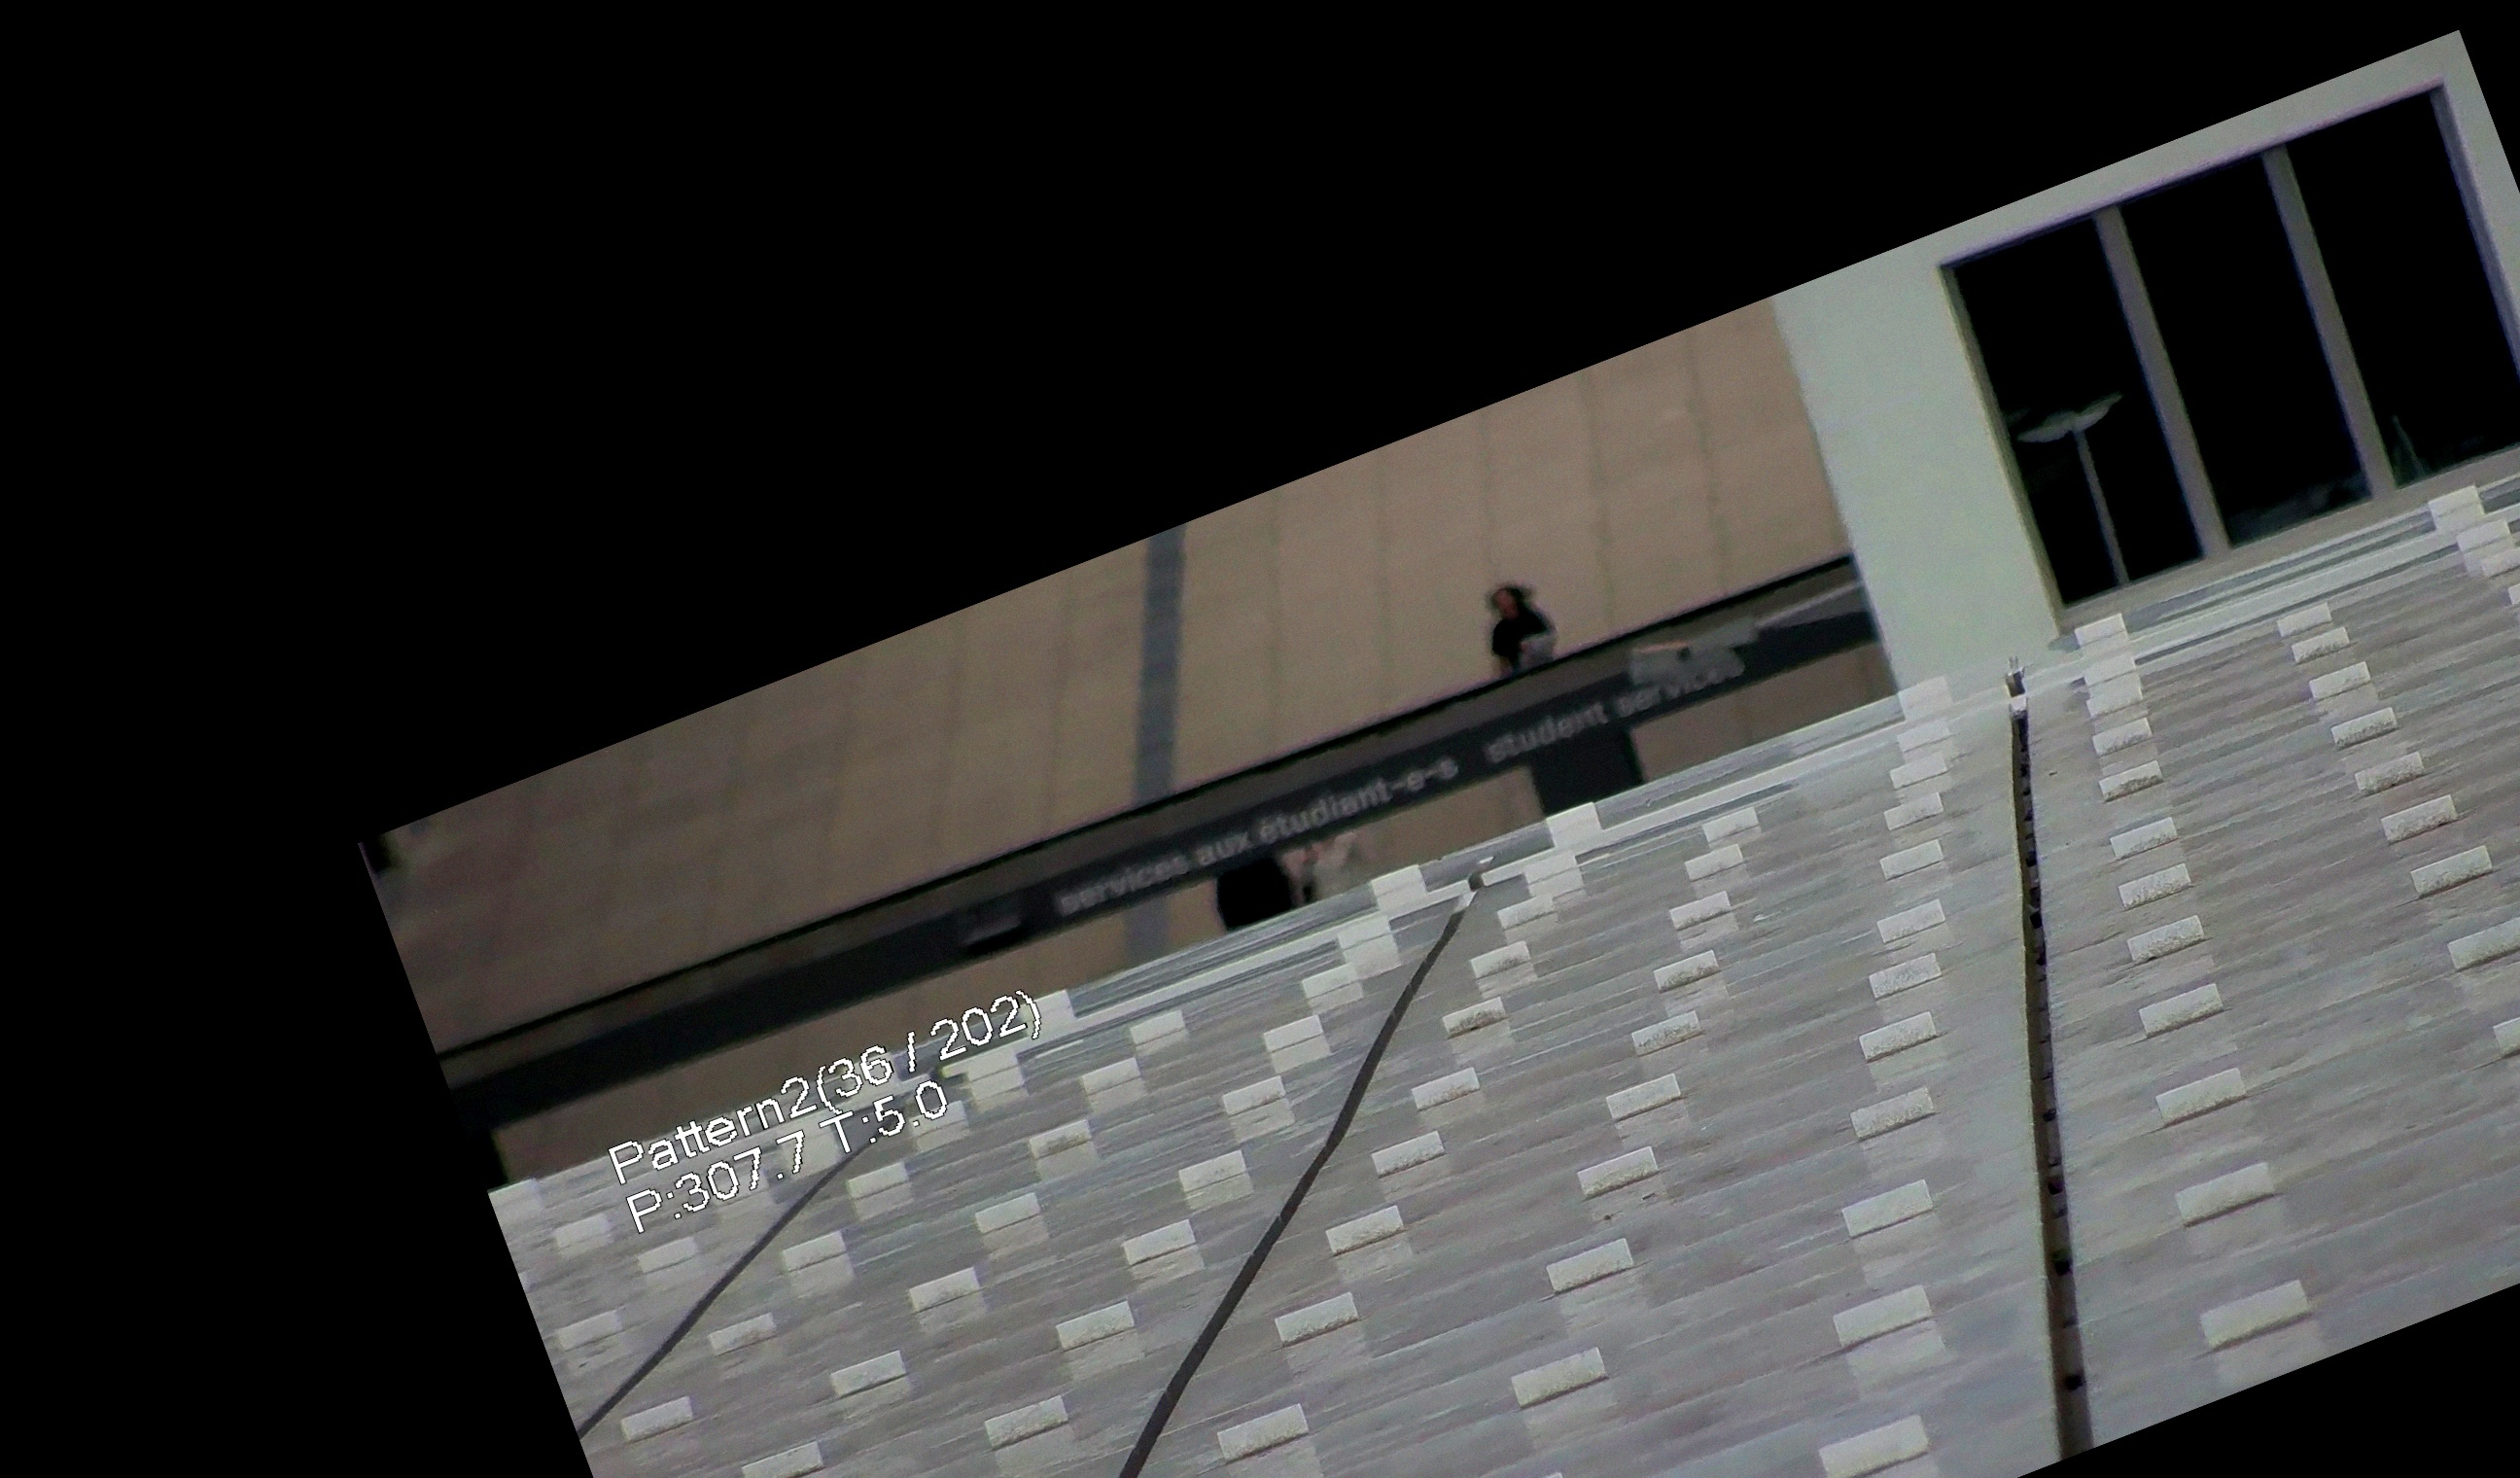Other: (1446, 558, 1576, 691)
